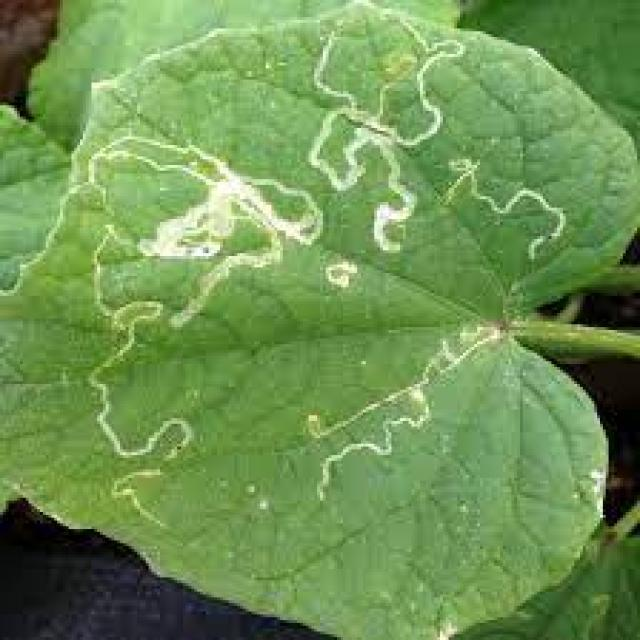Serpentine leafminer: (77, 116, 332, 556), (243, 315, 532, 517), (305, 9, 477, 272), (438, 149, 574, 274)
